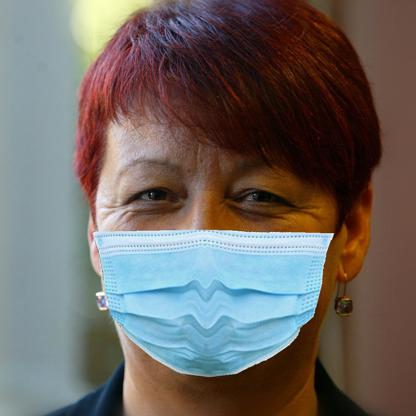mask: (90, 227, 333, 380)
